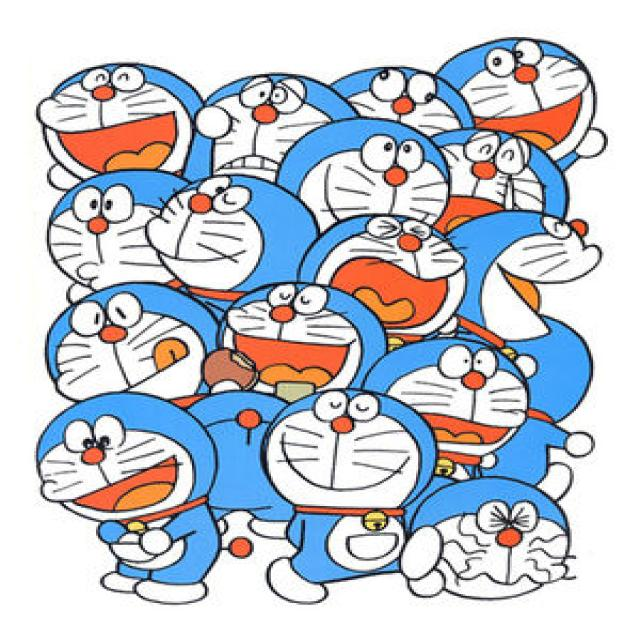doraemon: (28, 390, 211, 541), (258, 388, 440, 529), (397, 474, 572, 606), (28, 280, 215, 397), (28, 58, 196, 185), (437, 32, 602, 152), (192, 65, 343, 187), (446, 210, 595, 333), (47, 168, 156, 280)
